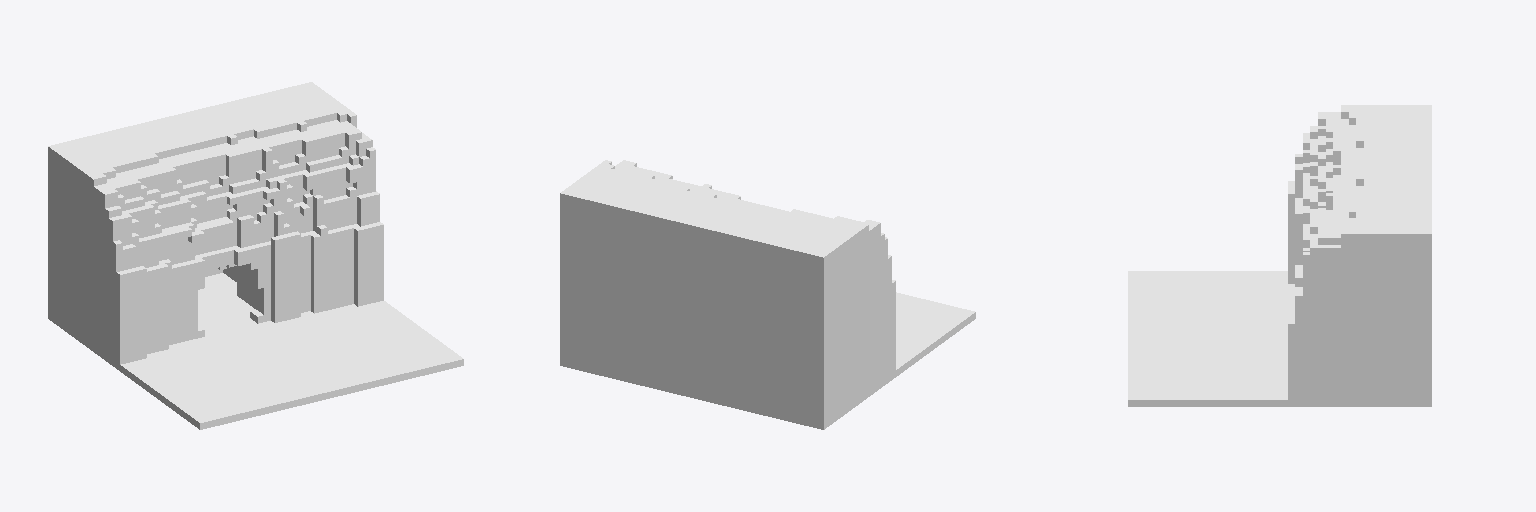
File: tile-halfmountain-3.obj
3 renders of one model, left to right at view 1: azimuth 30°, elevation 25°; view 2: azimuth 150°, elevation 25°; view 3: azimuth 270°, elevation 25°, orthographic.
Visible parts, largest first — view 1: tile-halfmountain-3; view 2: tile-halfmountain-3; view 3: tile-halfmountain-3.
Boxes of the visible parts, <box> form: tile-halfmountain-3: <box>48,82,463,429</box>; tile-halfmountain-3: <box>560,160,975,429</box>; tile-halfmountain-3: <box>1128,105,1431,406</box>.
Size of the model in its own units: 40 by 25 by 40.